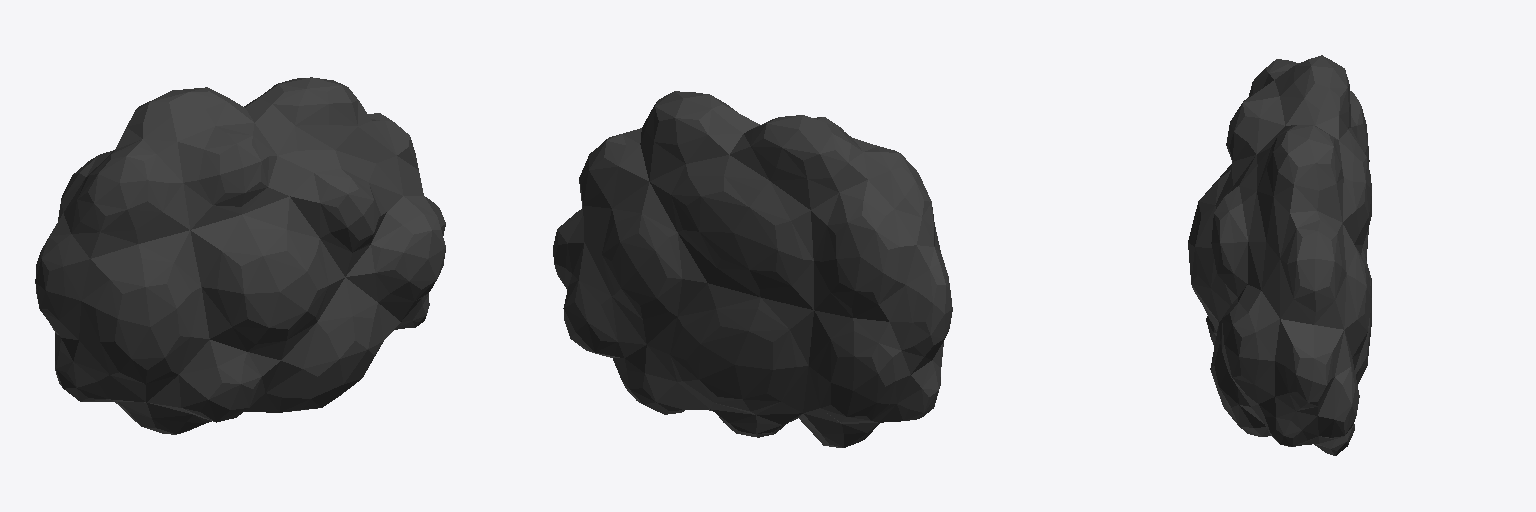
The model's file is cloud.obj.
3 views of the same model, side by side, from view 1: azimuth 30°, elevation 25°; view 2: azimuth 150°, elevation 25°; view 3: azimuth 270°, elevation 25° (orthographic).
Visible parts, largest first — view 1: n0b0_0; view 2: n0b0_0; view 3: n0b0_0.
Part boxes in pixels (left/top/right/bottom): n0b0_0: left=35, top=77, right=445, bottom=434; n0b0_0: left=553, top=91, right=952, bottom=447; n0b0_0: left=1188, top=55, right=1371, bottom=455.
Size of the model in its own units: 3.86 by 3.07 by 1.55.